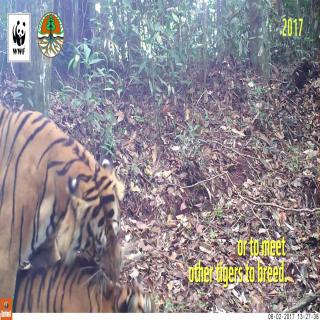Tiger: (0, 72, 129, 293)
